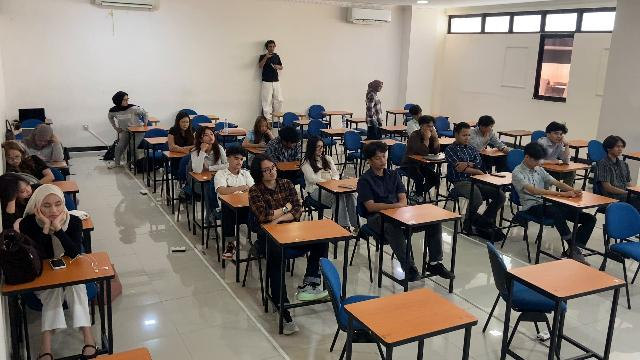bosan: (43, 199, 63, 220), (263, 161, 277, 180), (19, 181, 33, 199), (374, 150, 386, 169), (8, 151, 22, 166), (461, 129, 471, 145), (37, 138, 51, 149), (204, 130, 214, 144), (552, 130, 563, 142), (232, 155, 242, 168), (614, 142, 623, 156), (181, 118, 190, 131), (531, 157, 541, 168), (316, 141, 323, 156), (260, 121, 268, 134), (424, 123, 434, 132)
